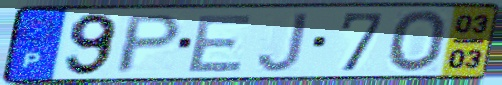7: (337, 11, 385, 73)
9: (61, 11, 122, 77)
E: (183, 12, 256, 75)
J: (254, 10, 312, 75)
O: (386, 8, 451, 75)
P: (112, 12, 187, 76)
